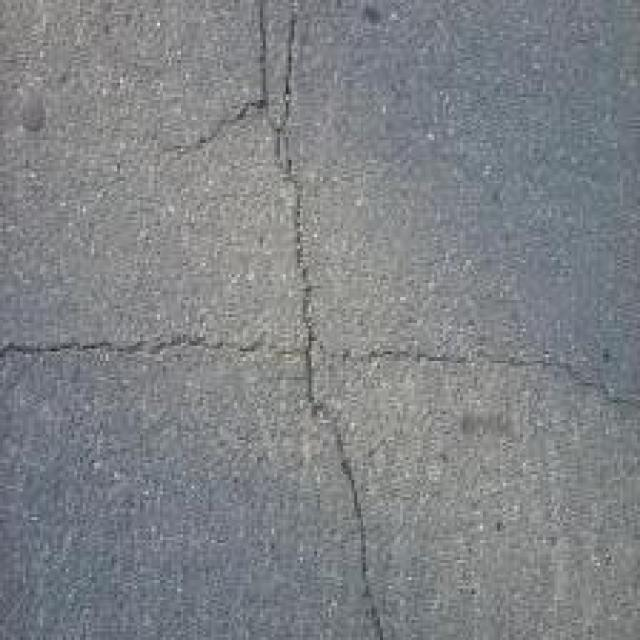crack: (246, 0, 428, 640), (0, 300, 638, 444)
